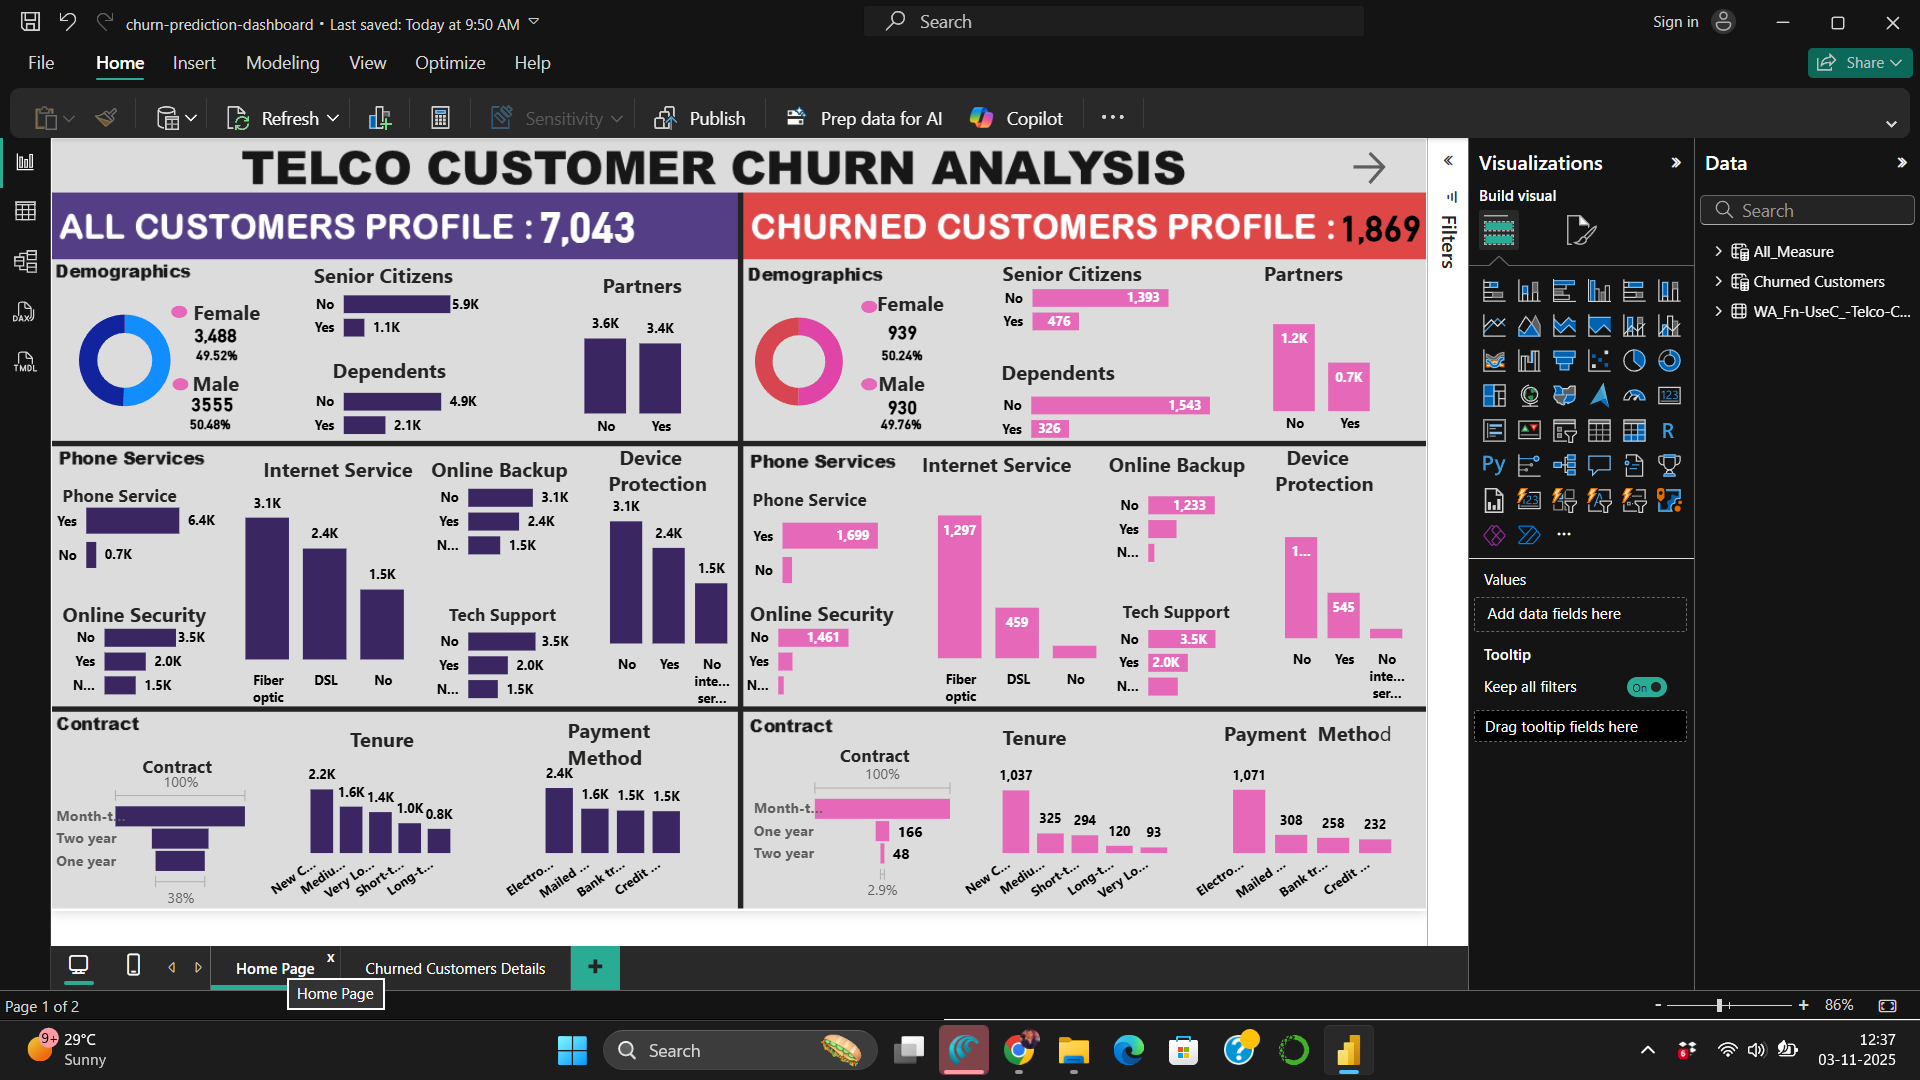

Layout of this report page (visuals, bound fields, positions):
{"tool":"powerbi","page":{"name":"Home Page","canvas":[1280,720],"ordinal":0},"visuals":[{"type":"card","fields":{"Values":["All_Measure.Total No of Customers"]},"box":[415.3,49.4,168.2,61.2],"z":0},{"type":"card","fields":{"Values":["All_Measure.Total Churned Customers"]},"box":[1192.9,55.3,87.1,52.9],"z":1000},{"type":"donutChart","fields":{"Category":["WA_Fn-UseC_-Telco-Customer-Churn.gender"],"Y":["CountNonNull(WA_Fn-UseC_-Telco-Customer-Churn.gender)"]},"box":[0,149.4,137.6,116.5],"z":2000},{"type":"card","fields":{"Values":["All_Measure.Females Cus"]},"box":[120,170.6,67.1,28.2],"z":3000},{"type":"textbox","box":[111.8,144.7,103.5,40],"z":4000},{"type":"textbox","box":[127.1,210.6,65.9,36.5],"z":5000},{"type":"card","fields":{"Values":["All_Measure.Males Cus"]},"box":[121.2,235.3,58.8,28.2],"z":6000},{"type":"shape","box":[111.8,155.3,15.3,11.8],"z":7000},{"type":"shape","box":[112.9,223.5,15.3,11.8],"z":8000},{"type":"card","fields":{"Values":["All_Measure.% Female Cus"]},"box":[80,178.8,148.2,50.6],"z":9000},{"type":"card","fields":{"Values":["All_Measure.% Male Cus"]},"box":[69.4,252.9,156.5,25.9],"z":10000},{"type":"clusteredBarChart","fields":{"Category":["WA_Fn-UseC_-Telco-Customer-Churn.SeniorCitizen"],"Y":["CountNonNull(WA_Fn-UseC_-Telco-Customer-Churn.SeniorCitizen)"]},"box":[240,114.1,163.5,96.5],"z":11000},{"type":"columnChart","fields":{"Category":["WA_Fn-UseC_-Telco-Customer-Churn.Partner"],"Y":["CountNonNull(WA_Fn-UseC_-Telco-Customer-Churn.Partner)"]},"box":[445.9,151.8,194.1,134.1],"z":12000},{"type":"textbox","box":[240,110.6,197.6,50.6],"z":13000},{"type":"textbox","box":[508.2,120,131.8,50.6],"z":14000},{"type":"clusteredBarChart","fields":{"Category":["WA_Fn-UseC_-Telco-Customer-Churn.Dependents"],"Y":["CountNonNull(WA_Fn-UseC_-Telco-Customer-Churn.Dependents)"]},"box":[240,204.7,163.5,96.5],"z":15000},{"type":"textbox","box":[256.5,198.8,131.8,50.6],"z":16000},{"type":"donutChart","fields":{"Category":["WA_Fn-UseC_-Telco-Customer-Churn.gender"],"Y":["All_Measure.Total Churned Customers"]},"box":[626.7,139.5,138.4,137.2],"z":17000},{"type":"textbox","box":[748.2,136.5,103.5,40],"z":18000},{"type":"card","fields":{"Values":["All_Measure.% Churned Females"]},"box":[717.6,178.8,148.2,50.6],"z":19000},{"type":"card","fields":{"Values":["All_Measure.% Churned Males"]},"box":[712.9,252.9,156.5,25.9],"z":20000},{"type":"textbox","box":[740,210.6,103.5,40],"z":21000},{"type":"card","fields":{"Values":["All_Measure.Churned Males"]},"box":[761.2,237.6,61.2,28.2],"z":22000},{"type":"card","fields":{"Values":["All_Measure.Churned Females"]},"box":[761.2,167.1,61.2,28.2],"z":23000},{"type":"shape","box":[752.9,150.6,15.3,11.8],"z":24000},{"type":"shape","box":[752.9,223.5,15.3,11.8],"z":25000},{"type":"clusteredBarChart","fields":{"Y":["All_Measure.Total Churned Customers"],"Category":["WA_Fn-UseC_-Telco-Customer-Churn.SeniorCitizen"]},"box":[880,108.2,197.6,96.5],"z":26000},{"type":"textbox","box":[880,108.2,197.6,50.6],"z":27000},{"type":"clusteredBarChart","fields":{"Category":["WA_Fn-UseC_-Telco-Customer-Churn.Dependents"],"Y":["All_Measure.Total Churned Customers"]},"box":[878.8,208.2,244.7,96.5],"z":28000},{"type":"textbox","box":[878.8,200,131.8,50.6],"z":29000},{"type":"textbox","box":[187.1,290.6,170.6,50.6],"z":30000},{"type":"columnChart","fields":{"Category":["WA_Fn-UseC_-Telco-Customer-Churn.Partner"],"Y":["All_Measure.Total Churned Customers"]},"box":[1085.9,136.5,194.1,148.2],"z":31000},{"type":"textbox","box":[1123.5,108.2,131.8,50.6],"z":32000},{"type":"barChart","fields":{"Category":["WA_Fn-UseC_-Telco-Customer-Churn.PhoneService"],"Y":["CountNonNull(WA_Fn-UseC_-Telco-Customer-Churn.PhoneService)"]},"box":[0,302.4,160,132.9],"z":33000},{"type":"textbox","box":[5.9,316.5,154.1,43.5],"z":34000},{"type":"barChart","fields":{"Category":["WA_Fn-UseC_-Telco-Customer-Churn.OnlineSecurity"],"Y":["CountNonNull(WA_Fn-UseC_-Telco-Customer-Churn.OnlineSecurity)"]},"box":[0,435.3,148.2,97.6],"z":35000},{"type":"columnChart","fields":{"Category":["WA_Fn-UseC_-Telco-Customer-Churn.InternetService"],"Y":["CountNonNull(WA_Fn-UseC_-Telco-Customer-Churn.InternetService)"]},"box":[148.2,316.5,209.4,220],"z":36000},{"type":"textbox","box":[349.4,290.6,162.4,50.6],"z":37000},{"type":"textbox","box":[5.9,425.9,187.1,50.6],"z":38000},{"type":"barChart","fields":{"Category":["WA_Fn-UseC_-Telco-Customer-Churn.TechSupport"],"Y":["CountNonNull(WA_Fn-UseC_-Telco-Customer-Churn.TechSupport)"]},"box":[338.8,438.8,148.2,97.6],"z":39000},{"type":"textbox","box":[364.7,427.1,131.8,50.6],"z":40000},{"type":"textbox","box":[648.2,320,174.1,50.6],"z":41000},{"type":"barChart","fields":{"Category":["WA_Fn-UseC_-Telco-Customer-Churn.OnlineBackup"],"Y":["CountNonNull(WA_Fn-UseC_-Telco-Customer-Churn.OnlineBackup)"]},"box":[338.8,304.7,148.2,97.6],"z":42000},{"type":"columnChart","fields":{"Category":["WA_Fn-UseC_-Telco-Customer-Churn.DeviceProtection"],"Y":["CountNonNull(WA_Fn-UseC_-Telco-Customer-Churn.DeviceProtection)"]},"box":[495.3,317.6,156.5,220],"z":43000},{"type":"textbox","box":[508.2,278.8,192.9,65.9],"z":44000},{"type":"barChart","fields":{"Category":["WA_Fn-UseC_-Telco-Customer-Churn.PhoneService"],"Y":["All_Measure.Total Churned Customers"]},"box":[648.2,316.5,160,132.9],"z":45000},{"type":"barChart","fields":{"Category":["WA_Fn-UseC_-Telco-Customer-Churn.OnlineSecurity"],"Y":["All_Measure.Total Churned Customers"]},"box":[627.1,435.3,148.2,97.6],"z":46000},{"type":"textbox","box":[645.9,424.7,187.1,50.6],"z":47000},{"type":"columnChart","fields":{"Category":["WA_Fn-UseC_-Telco-Customer-Churn.InternetService"],"Y":["All_Measure.Total Churned Customers"]},"box":[791.8,315.3,209.4,220],"z":48000},{"type":"textbox","box":[800,285.9,170.6,50.6],"z":49000},{"type":"barChart","fields":{"Category":["WA_Fn-UseC_-Telco-Customer-Churn.TechSupport"],"Y":["CountNonNull(WA_Fn-UseC_-Telco-Customer-Churn.TechSupport)"]},"box":[970.6,436.5,148.2,97.6],"z":50000},{"type":"textbox","box":[991.8,424.7,131.8,50.6],"z":51000},{"type":"barChart","fields":{"Category":["WA_Fn-UseC_-Telco-Customer-Churn.OnlineBackup"],"Y":["All_Measure.Total Churned Customers"]},"box":[970.6,311.8,148.2,97.6],"z":52000},{"type":"textbox","box":[978.8,285.9,176.5,50.6],"z":53000},{"type":"columnChart","fields":{"Category":["WA_Fn-UseC_-Telco-Customer-Churn.DeviceProtection"],"Y":["All_Measure.Total Churned Customers"]},"box":[1123.5,334.1,156.5,198.8],"z":54000},{"type":"textbox","box":[1134.1,278.8,145.9,74.1],"z":55000},{"type":"funnel","fields":{"Category":["WA_Fn-UseC_-Telco-Customer-Churn.Contract"],"Y":["CountNonNull(WA_Fn-UseC_-Telco-Customer-Churn.Contract)"]},"box":[0,583.5,190.6,136.5],"z":56000},{"type":"textbox","box":[80,568.2,108.2,50.6],"z":57000},{"type":"columnChart","fields":{"Category":["WA_Fn-UseC_-Telco-Customer-Churn.TenureCategory"],"Y":["CountNonNull(WA_Fn-UseC_-Telco-Customer-Churn.TenureCategory)"]},"box":[190.6,568.2,197.6,151.8],"z":58000},{"type":"textbox","box":[272.9,542.4,108.2,51.8],"z":59000},{"type":"columnChart","fields":{"Category":["WA_Fn-UseC_-Telco-Customer-Churn.PaymentMethod"],"Y":["CountNonNull(WA_Fn-UseC_-Telco-Customer-Churn.PaymentMethod)"]},"box":[407.1,568.2,197.6,151.8],"z":60000},{"type":"textbox","box":[475.3,534.1,108.2,60],"z":61000},{"type":"funnel","fields":{"Category":["WA_Fn-UseC_-Telco-Customer-Churn.Contract"],"Y":["All_Measure.Total Churned Customers"]},"box":[649.4,576.5,197.6,136.5],"z":62000},{"type":"textbox","box":[729.4,557.6,96.5,51.8],"z":63000},{"type":"columnChart","fields":{"Category":["WA_Fn-UseC_-Telco-Customer-Churn.TenureCategory"],"Y":["All_Measure.Total Churned Customers"]},"box":[832.9,568.2,224.7,151.8],"z":64000},{"type":"textbox","box":[880,540,85.9,55.3],"z":65000},{"type":"columnChart","fields":{"Category":["WA_Fn-UseC_-Telco-Customer-Churn.PaymentMethod"],"Y":["All_Measure.Total Churned Customers"]},"box":[1044.7,568.2,224.7,151.8],"z":66000},{"type":"textbox","box":[1085.9,536.5,194.1,55.3],"z":67000},{"type":"actionButton","box":[1098.7,0,155.8,55.8],"z":67001}]}

Visuals, with their boxes on the page's 1280x720 design canvas (x1, y1, x2, y2). These are canvas units, not pixel positions in the 1920x1080 screenshot, which may show the page scaled, cropped or inside an application window:
card - All_Measure.Total No of Customers: select_region(415, 49, 584, 111)
card - All_Measure.Total Churned Customers: select_region(1193, 55, 1280, 108)
donutChart - WA_Fn-UseC_-Telco-Customer-Churn.gender x CountNonNull(WA_Fn-UseC_-Telco-Customer-Churn.gender): select_region(0, 149, 138, 266)
card - All_Measure.Females Cus: select_region(120, 171, 187, 199)
textbox: select_region(112, 145, 215, 185)
textbox: select_region(127, 211, 193, 247)
card - All_Measure.Males Cus: select_region(121, 235, 180, 264)
shape: select_region(112, 155, 127, 167)
shape: select_region(113, 224, 128, 235)
card - All_Measure.% Female Cus: select_region(80, 179, 228, 229)
card - All_Measure.% Male Cus: select_region(69, 253, 226, 279)
clusteredBarChart - WA_Fn-UseC_-Telco-Customer-Churn.SeniorCitizen x CountNonNull(WA_Fn-UseC_-Telco-Customer-Churn.SeniorCitizen): select_region(240, 114, 404, 211)
columnChart - WA_Fn-UseC_-Telco-Customer-Churn.Partner x CountNonNull(WA_Fn-UseC_-Telco-Customer-Churn.Partner): select_region(446, 152, 640, 286)
textbox: select_region(240, 111, 438, 161)
textbox: select_region(508, 120, 640, 171)
clusteredBarChart - WA_Fn-UseC_-Telco-Customer-Churn.Dependents x CountNonNull(WA_Fn-UseC_-Telco-Customer-Churn.Dependents): select_region(240, 205, 404, 301)
textbox: select_region(256, 199, 388, 249)
donutChart - WA_Fn-UseC_-Telco-Customer-Churn.gender x All_Measure.Total Churned Customers: select_region(627, 140, 765, 277)
textbox: select_region(748, 136, 852, 176)
card - All_Measure.% Churned Females: select_region(718, 179, 866, 229)
card - All_Measure.% Churned Males: select_region(713, 253, 869, 279)
textbox: select_region(740, 211, 844, 251)
card - All_Measure.Churned Males: select_region(761, 238, 822, 266)
card - All_Measure.Churned Females: select_region(761, 167, 822, 195)
shape: select_region(753, 151, 768, 162)
shape: select_region(753, 224, 768, 235)
clusteredBarChart - All_Measure.Total Churned Customers x WA_Fn-UseC_-Telco-Customer-Churn.SeniorCitizen: select_region(880, 108, 1078, 205)
textbox: select_region(880, 108, 1078, 159)
clusteredBarChart - WA_Fn-UseC_-Telco-Customer-Churn.Dependents x All_Measure.Total Churned Customers: select_region(879, 208, 1124, 305)
textbox: select_region(879, 200, 1011, 251)
textbox: select_region(187, 291, 358, 341)
columnChart - WA_Fn-UseC_-Telco-Customer-Churn.Partner x All_Measure.Total Churned Customers: select_region(1086, 136, 1280, 285)
textbox: select_region(1124, 108, 1255, 159)
barChart - WA_Fn-UseC_-Telco-Customer-Churn.PhoneService x CountNonNull(WA_Fn-UseC_-Telco-Customer-Churn.PhoneService): select_region(0, 302, 160, 435)
textbox: select_region(6, 316, 160, 360)
barChart - WA_Fn-UseC_-Telco-Customer-Churn.OnlineSecurity x CountNonNull(WA_Fn-UseC_-Telco-Customer-Churn.OnlineSecurity): select_region(0, 435, 148, 533)
columnChart - WA_Fn-UseC_-Telco-Customer-Churn.InternetService x CountNonNull(WA_Fn-UseC_-Telco-Customer-Churn.InternetService): select_region(148, 316, 358, 536)
textbox: select_region(349, 291, 512, 341)
textbox: select_region(6, 426, 193, 476)
barChart - WA_Fn-UseC_-Telco-Customer-Churn.TechSupport x CountNonNull(WA_Fn-UseC_-Telco-Customer-Churn.TechSupport): select_region(339, 439, 487, 536)
textbox: select_region(365, 427, 496, 478)
textbox: select_region(648, 320, 822, 371)
barChart - WA_Fn-UseC_-Telco-Customer-Churn.OnlineBackup x CountNonNull(WA_Fn-UseC_-Telco-Customer-Churn.OnlineBackup): select_region(339, 305, 487, 402)
columnChart - WA_Fn-UseC_-Telco-Customer-Churn.DeviceProtection x CountNonNull(WA_Fn-UseC_-Telco-Customer-Churn.DeviceProtection): select_region(495, 318, 652, 538)
textbox: select_region(508, 279, 701, 345)
barChart - WA_Fn-UseC_-Telco-Customer-Churn.PhoneService x All_Measure.Total Churned Customers: select_region(648, 316, 808, 449)
barChart - WA_Fn-UseC_-Telco-Customer-Churn.OnlineSecurity x All_Measure.Total Churned Customers: select_region(627, 435, 775, 533)
textbox: select_region(646, 425, 833, 475)
columnChart - WA_Fn-UseC_-Telco-Customer-Churn.InternetService x All_Measure.Total Churned Customers: select_region(792, 315, 1001, 535)
textbox: select_region(800, 286, 971, 336)
barChart - WA_Fn-UseC_-Telco-Customer-Churn.TechSupport x CountNonNull(WA_Fn-UseC_-Telco-Customer-Churn.TechSupport): select_region(971, 436, 1119, 534)
textbox: select_region(992, 425, 1124, 475)
barChart - WA_Fn-UseC_-Telco-Customer-Churn.OnlineBackup x All_Measure.Total Churned Customers: select_region(971, 312, 1119, 409)
textbox: select_region(979, 286, 1155, 336)
columnChart - WA_Fn-UseC_-Telco-Customer-Churn.DeviceProtection x All_Measure.Total Churned Customers: select_region(1124, 334, 1280, 533)
textbox: select_region(1134, 279, 1280, 353)
funnel - WA_Fn-UseC_-Telco-Customer-Churn.Contract x CountNonNull(WA_Fn-UseC_-Telco-Customer-Churn.Contract): select_region(0, 584, 191, 720)
textbox: select_region(80, 568, 188, 619)
columnChart - WA_Fn-UseC_-Telco-Customer-Churn.TenureCategory x CountNonNull(WA_Fn-UseC_-Telco-Customer-Churn.TenureCategory): select_region(191, 568, 388, 720)
textbox: select_region(273, 542, 381, 594)
columnChart - WA_Fn-UseC_-Telco-Customer-Churn.PaymentMethod x CountNonNull(WA_Fn-UseC_-Telco-Customer-Churn.PaymentMethod): select_region(407, 568, 605, 720)
textbox: select_region(475, 534, 584, 594)
funnel - WA_Fn-UseC_-Telco-Customer-Churn.Contract x All_Measure.Total Churned Customers: select_region(649, 576, 847, 713)
textbox: select_region(729, 558, 826, 609)
columnChart - WA_Fn-UseC_-Telco-Customer-Churn.TenureCategory x All_Measure.Total Churned Customers: select_region(833, 568, 1058, 720)
textbox: select_region(880, 540, 966, 595)
columnChart - WA_Fn-UseC_-Telco-Customer-Churn.PaymentMethod x All_Measure.Total Churned Customers: select_region(1045, 568, 1269, 720)
textbox: select_region(1086, 536, 1280, 592)
actionButton: select_region(1099, 0, 1254, 56)
